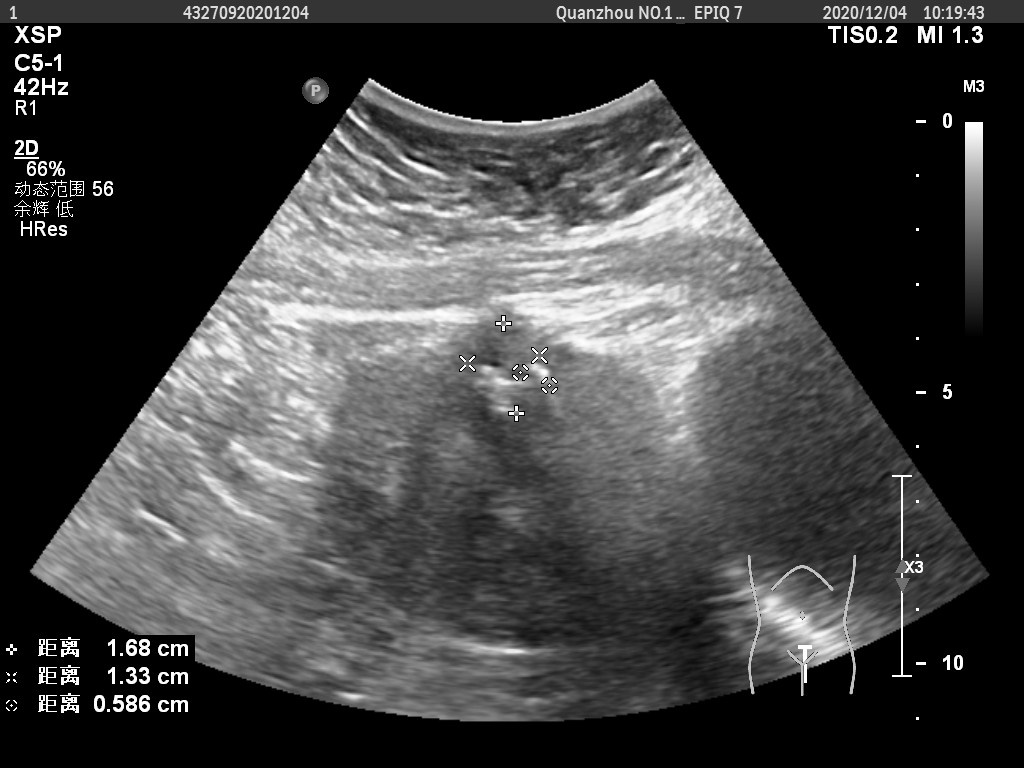肌瘤: (466, 325, 540, 421)
